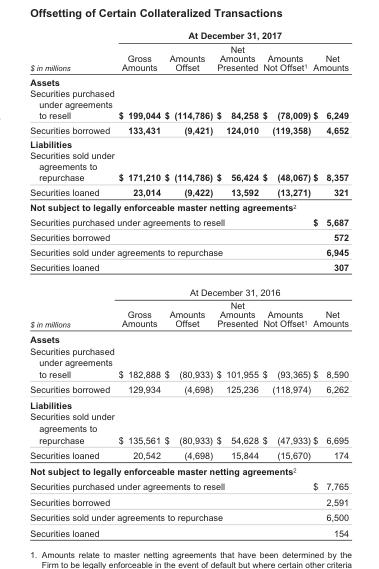table: (29, 29, 348, 537)
table column: (29, 29, 115, 537), (161, 29, 213, 537), (259, 29, 311, 537), (115, 29, 161, 537), (213, 29, 259, 537), (311, 29, 348, 537)
table column header: (29, 29, 348, 74)
table projected row header: (29, 462, 348, 478), (29, 199, 348, 214), (29, 330, 348, 344), (29, 396, 348, 410), (29, 74, 348, 87), (29, 136, 348, 149)
table row: (29, 344, 348, 381), (29, 410, 348, 447), (29, 149, 348, 184), (29, 87, 348, 121), (29, 41, 348, 74), (29, 298, 348, 330), (29, 258, 348, 279), (29, 279, 348, 298), (29, 462, 348, 478), (29, 493, 348, 509), (29, 121, 348, 136), (29, 184, 348, 199), (29, 199, 348, 214), (29, 214, 348, 229), (29, 243, 348, 258), (29, 381, 348, 396), (29, 447, 348, 462), (29, 478, 348, 493), (29, 509, 348, 524), (29, 229, 348, 243), (29, 330, 348, 344), (29, 396, 348, 410), (29, 74, 348, 87), (29, 136, 348, 149), (29, 524, 348, 537), (29, 29, 348, 41)
table spanning cell: (115, 279, 348, 298), (29, 214, 311, 229), (29, 243, 311, 258), (29, 478, 311, 493), (29, 509, 311, 524), (29, 29, 115, 74), (29, 258, 115, 298), (115, 29, 348, 41)
